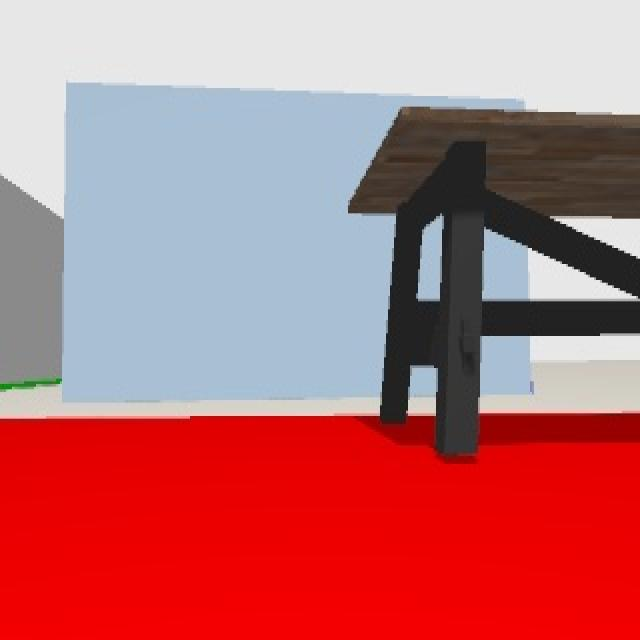dining: (348, 100, 640, 466)
